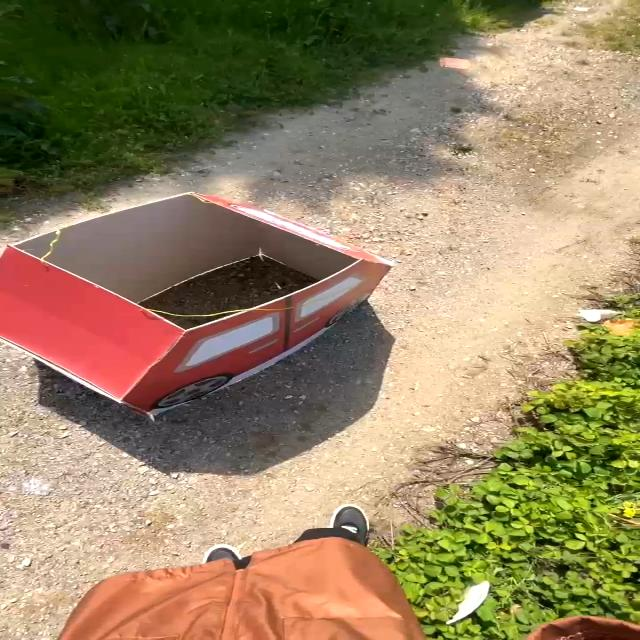red_car: (0, 168, 432, 433)
